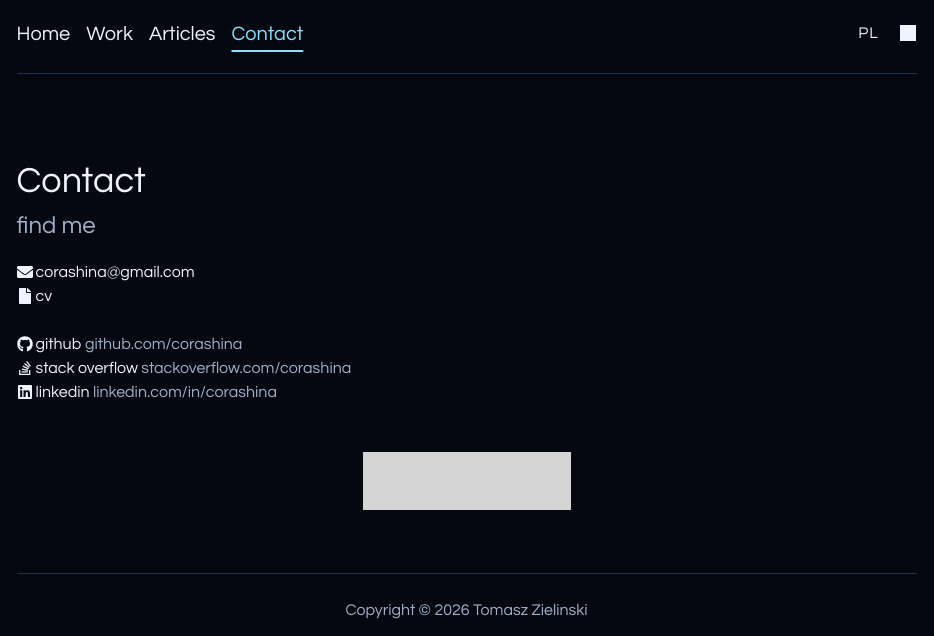
language switch transition › keeps the outgoing page in its own language while it slides out
Check: the heading "Contact" is shown, box x1=16 y1=162 x2=146 y2=200
Step 1. Click the link with aria-label "Polska wersja" → click(868, 33), box x1=858 y1=21 x2=878 y2=45
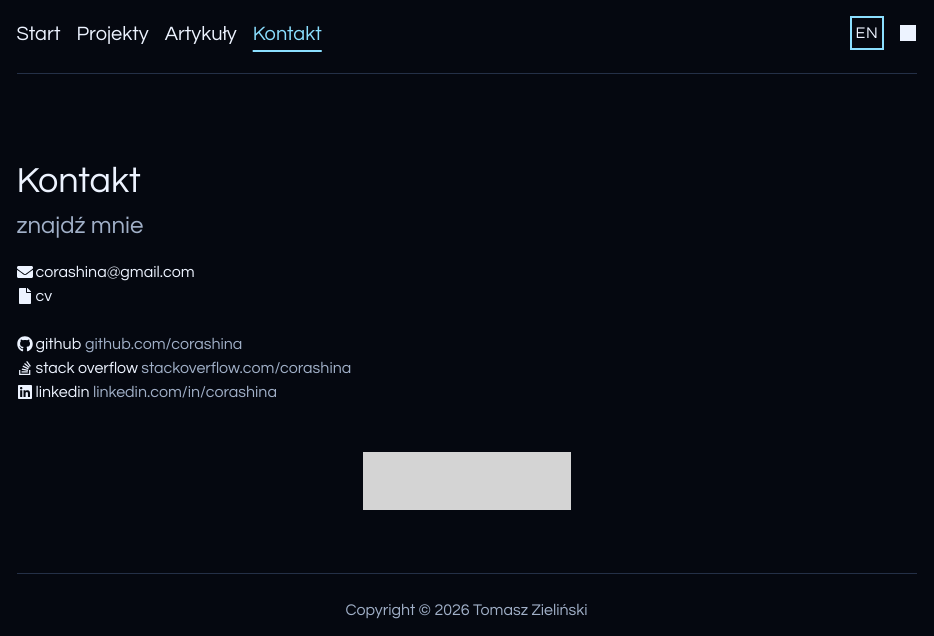
Check: the heading "Kontakt" is shown, box x1=16 y1=162 x2=141 y2=200
